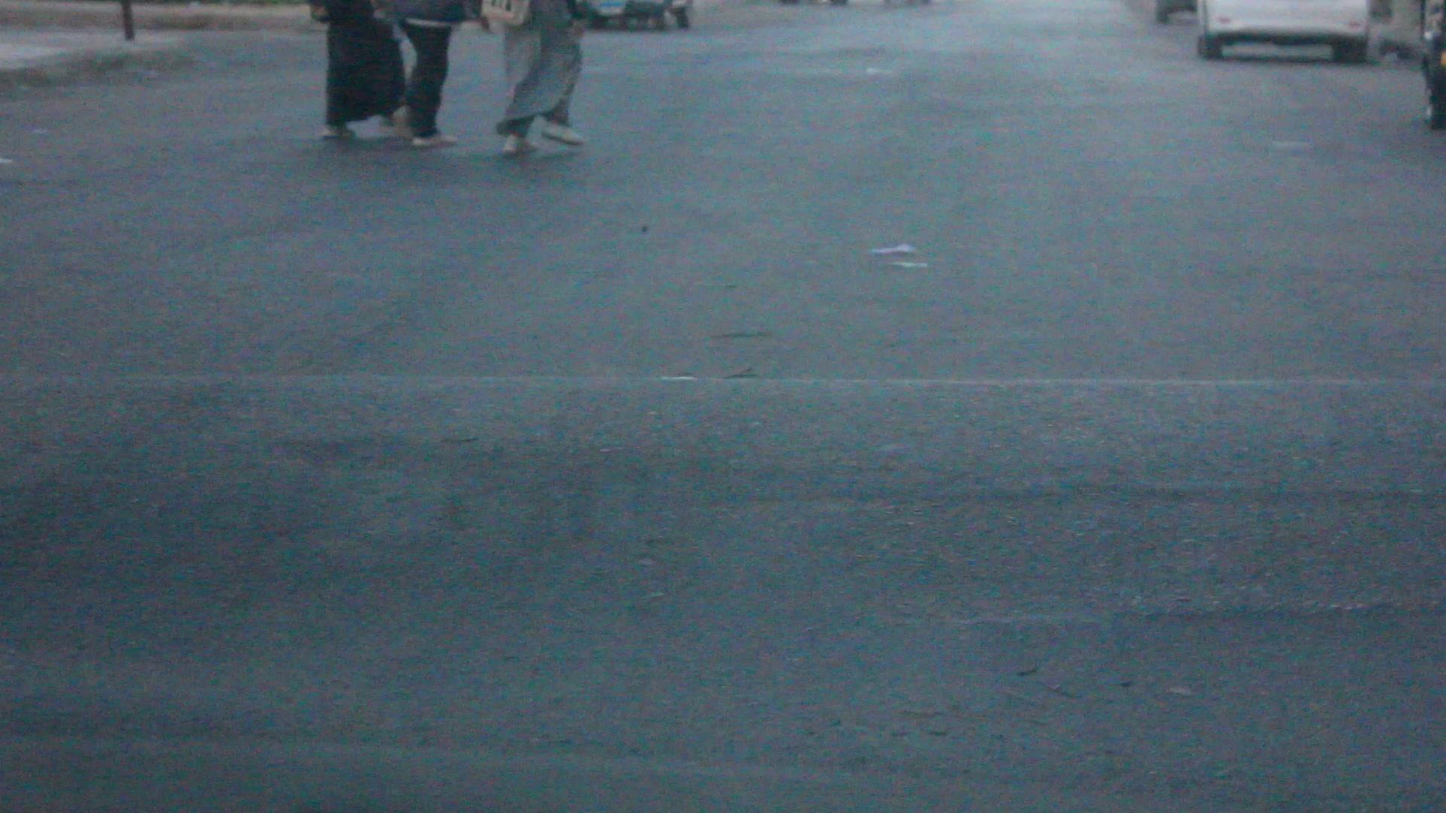Bump: (4, 361, 1427, 614)
